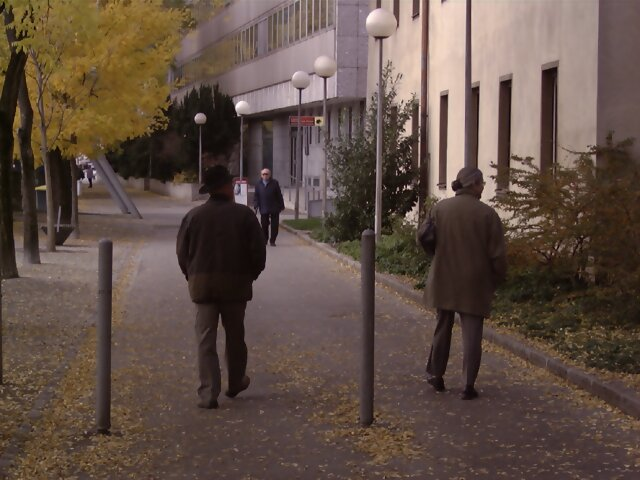person: (176, 162, 274, 406), (414, 167, 508, 402)
